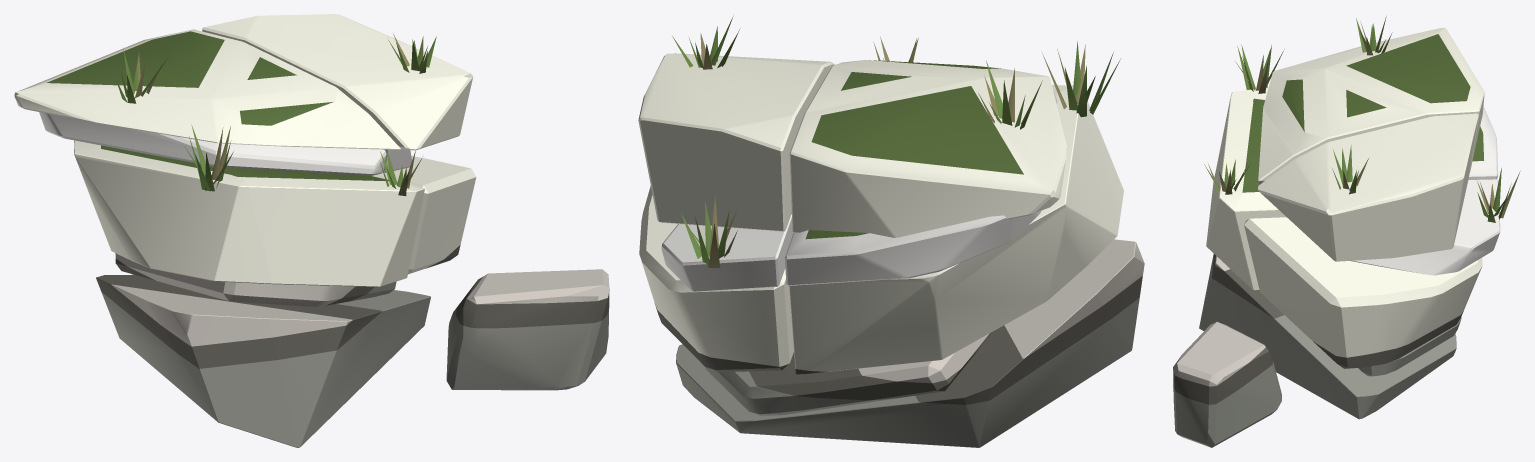
Rendered from rock_a.glb.
The picture shows the model from 3 angles, left to right: view 1: azimuth 30°, elevation 25°; view 2: azimuth 150°, elevation 25°; view 3: azimuth 270°, elevation 25°; orthographic projection. The views are drawn at different scales.
Parts seen in each view (by area): view 1: rock_a_body; view 2: rock_a_body; view 3: rock_a_body.
Boxes of the visible parts, <box> form: rock_a_body: <box>14,14,609,447</box>; rock_a_body: <box>638,16,1144,447</box>; rock_a_body: <box>1173,16,1520,447</box>.
Size of what is drawn, in the model's own units: 2.68 by 1.88 by 2.07.
